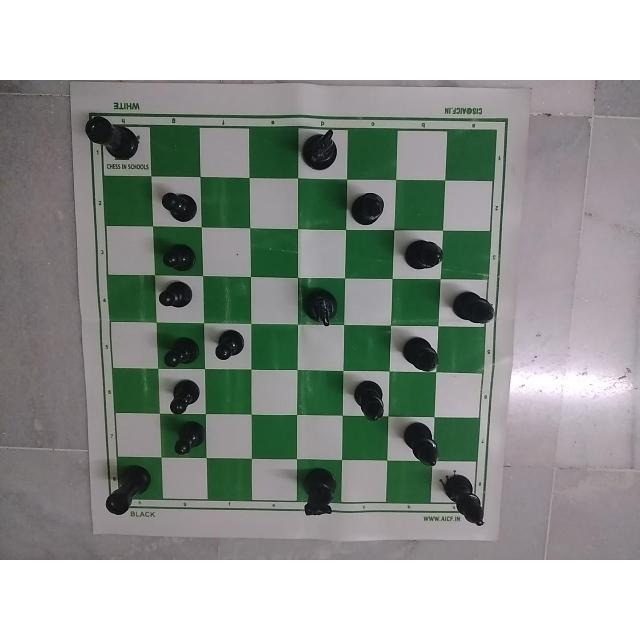black-knight: (292, 463, 340, 520), (299, 124, 345, 178), (296, 283, 342, 331)
black-pawn: (443, 468, 491, 528), (341, 376, 389, 424), (400, 417, 444, 469), (347, 185, 394, 231), (447, 284, 499, 324), (153, 278, 205, 314), (398, 336, 444, 376), (160, 333, 204, 373), (212, 324, 252, 368), (160, 376, 204, 416), (402, 235, 446, 275), (162, 184, 200, 225), (171, 417, 205, 461), (157, 240, 198, 276)
black-rook: (82, 112, 141, 171), (100, 463, 152, 519)
